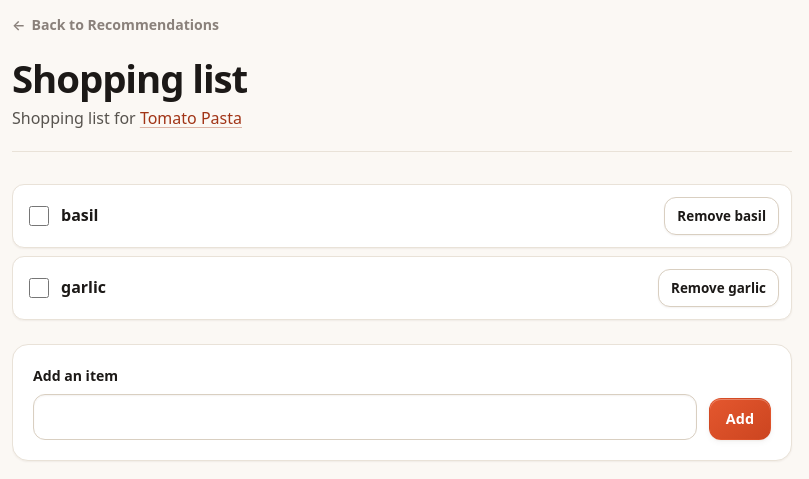
Test: ShoppingListPage › removes an item with an ingredient-specific button
Click the button "Remove basil".
click(722, 216)  # box [664,197,779,235]
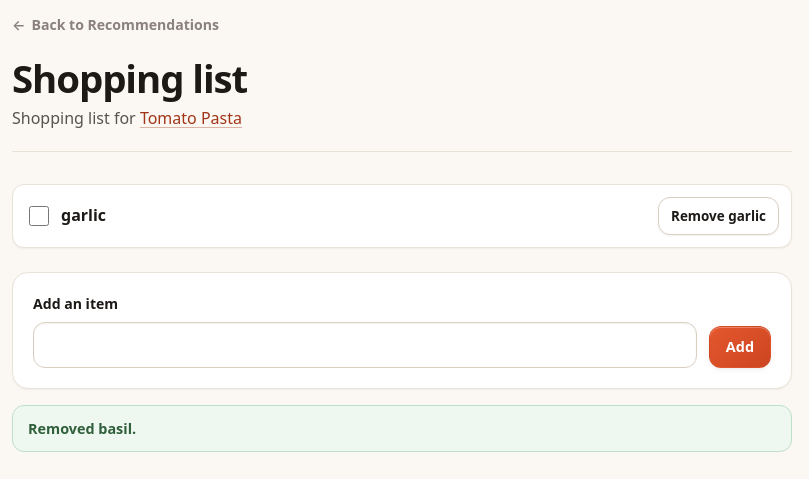
Expected: the checkbox labelled "garlic" is shown, [29,206,49,226]
Now the message reads "Removed basil.", box [28,419,136,438]
